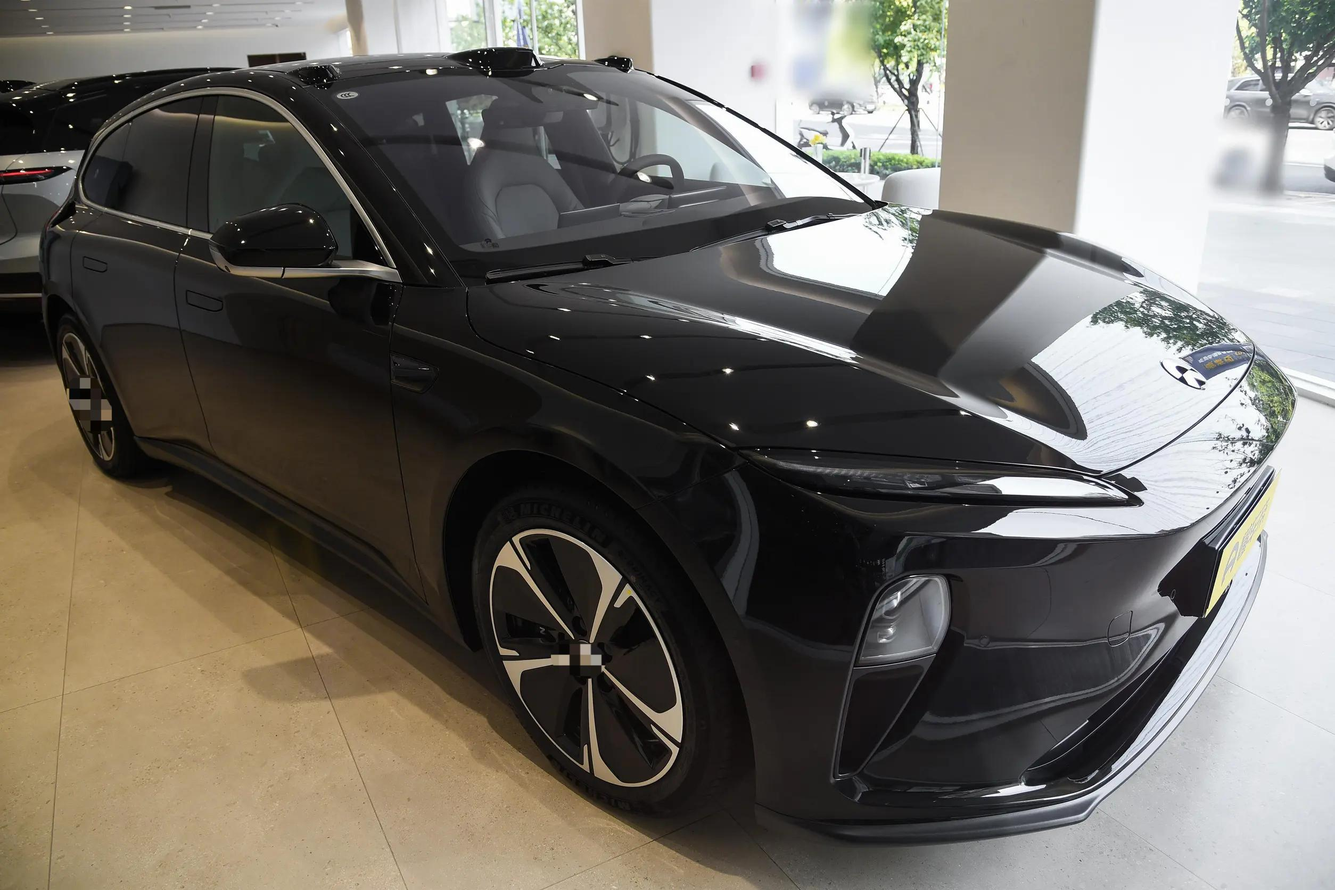NIO: (1160, 357, 1207, 389)
